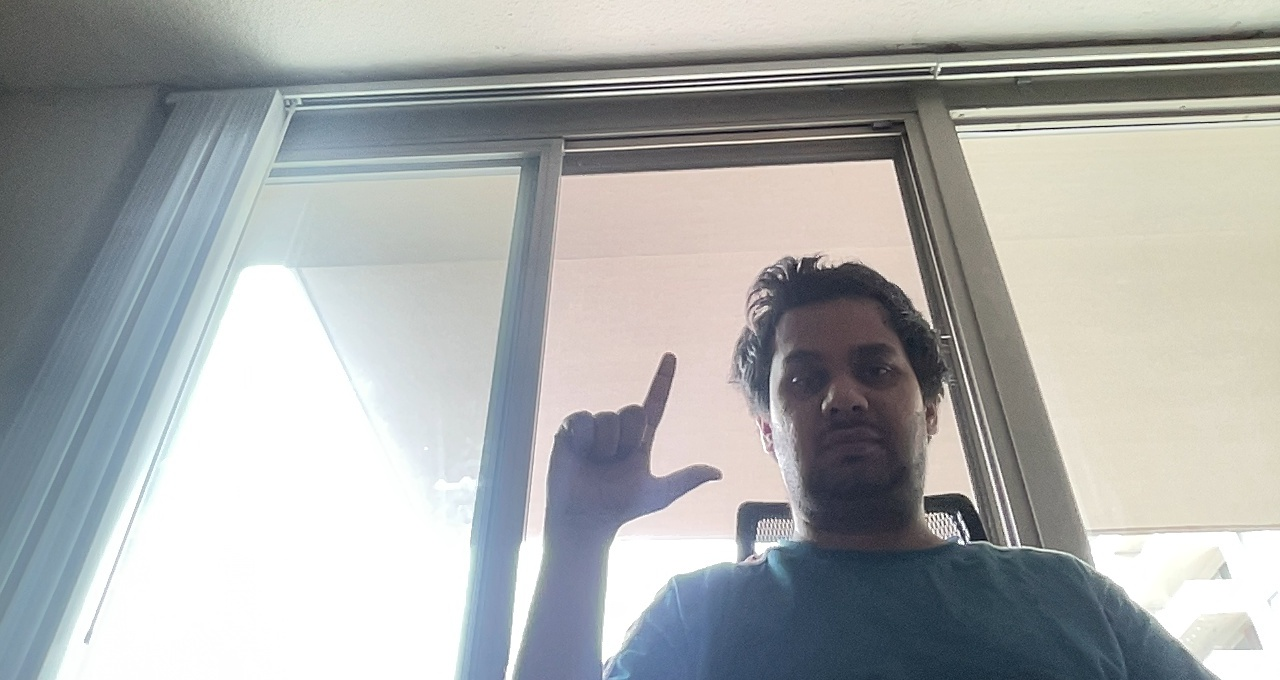L: (537, 344, 729, 535)
